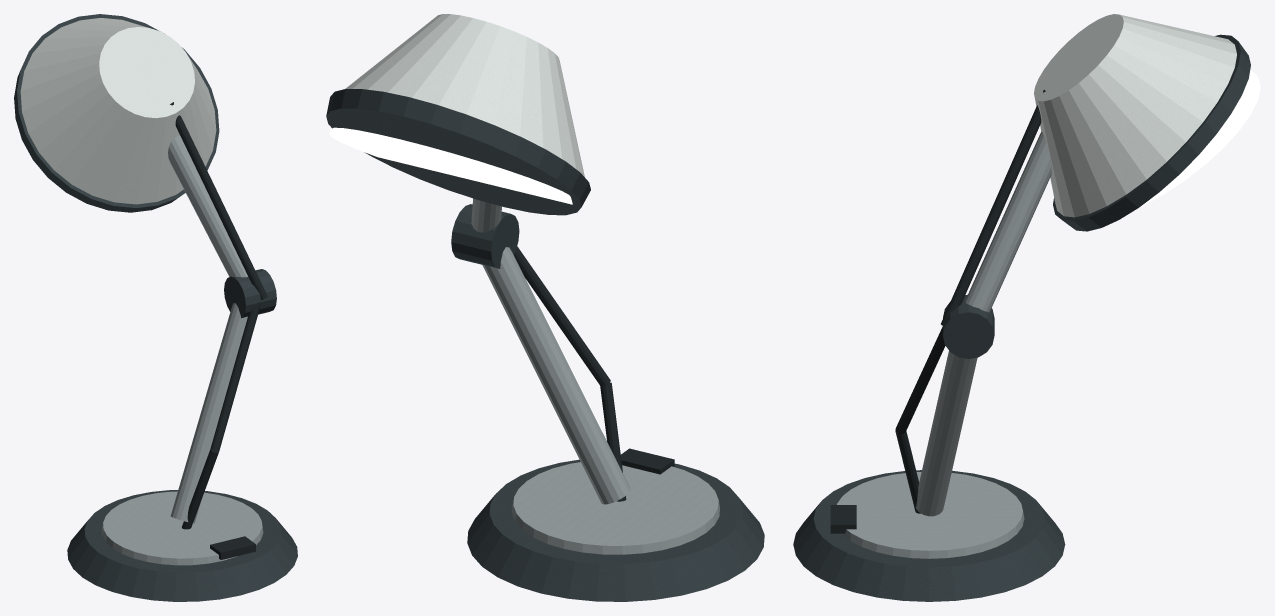
3 renders of one model, left to right at view 1: azimuth 30°, elevation 25°; view 2: azimuth 150°, elevation 25°; view 3: azimuth 270°, elevation 25°, orthographic. The views are drawn at different scales.
Visible parts, largest first — view 1: VIS_HEAD_SHELL, VIS_FOOT_DISC, VIS_FOOT_INSET, VIS_LOWER_ARM, VIS_HEAD_BEZEL, VIS_UPPER_ARM, VIS_BRAID_CABLE_02, VIS_JOINT1, VIS_BRAID_CABLE_01, VIS_BRAID_CABLE, VIS_POWER_BUTTON; view 2: VIS_FOOT_DISC, VIS_HEAD_SHELL, VIS_FOOT_INSET, VIS_HEAD_BEZEL, VIS_LOWER_ARM, VIS_EMITTER_DESK, VIS_JOINT1, VIS_BRAID_CABLE_01, VIS_BRAID_CABLE, VIS_POWER_BUTTON, VIS_UPPER_ARM; view 3: VIS_HEAD_SHELL, VIS_FOOT_DISC, VIS_FOOT_INSET, VIS_HEAD_BEZEL, VIS_LOWER_ARM, VIS_UPPER_ARM, VIS_BRAID_CABLE_02, VIS_JOINT1, VIS_EMITTER_DESK, VIS_BRAID_CABLE_01, VIS_BRAID_CABLE, VIS_POWER_BUTTON.
Part boxes in pixels (x1,y1,x2,y2): VIS_HEAD_SHELL: [20, 18, 216, 204]; VIS_FOOT_DISC: [67, 490, 297, 601]; VIS_FOOT_INSET: [102, 491, 263, 565]; VIS_LOWER_ARM: [170, 303, 247, 523]; VIS_HEAD_BEZEL: [14, 14, 219, 212]; VIS_UPPER_ARM: [168, 136, 247, 277]; VIS_BRAID_CABLE_02: [170, 102, 267, 299]; VIS_JOINT1: [224, 269, 276, 318]; VIS_BRAID_CABLE_01: [210, 303, 260, 451]; VIS_BRAID_CABLE: [182, 449, 218, 529]; VIS_POWER_BUTTON: [210, 536, 255, 559]; VIS_FOOT_DISC: [467, 459, 764, 601]; VIS_HEAD_SHELL: [345, 14, 584, 176]; VIS_FOOT_INSET: [512, 462, 719, 554]; VIS_HEAD_BEZEL: [326, 89, 590, 215]; VIS_LOWER_ARM: [482, 247, 630, 504]; VIS_EMITTER_DESK: [329, 127, 572, 204]; VIS_JOINT1: [451, 204, 519, 268]; VIS_BRAID_CABLE_01: [514, 246, 610, 385]; VIS_BRAID_CABLE: [600, 382, 626, 501]; VIS_POWER_BUTTON: [621, 448, 674, 474]; VIS_UPPER_ARM: [471, 198, 501, 232]; VIS_HEAD_SHELL: [1034, 14, 1236, 217]; VIS_FOOT_DISC: [793, 470, 1065, 601]; VIS_FOOT_INSET: [837, 472, 1024, 558]; VIS_HEAD_BEZEL: [1053, 34, 1250, 231]; VIS_LOWER_ARM: [915, 351, 977, 516]; VIS_UPPER_ARM: [965, 131, 1051, 312]; VIS_BRAID_CABLE_02: [941, 89, 1045, 326]; VIS_JOINT1: [943, 294, 994, 358]; VIS_EMITTER_DESK: [1140, 70, 1260, 206]; VIS_BRAID_CABLE_01: [895, 326, 945, 434]; VIS_BRAID_CABLE: [895, 430, 920, 513]; VIS_POWER_BUTTON: [830, 505, 856, 533].
Bounding box in the file's own units: 0.221 × 0.443 × 0.3437.
6 materials, 6 textured.
